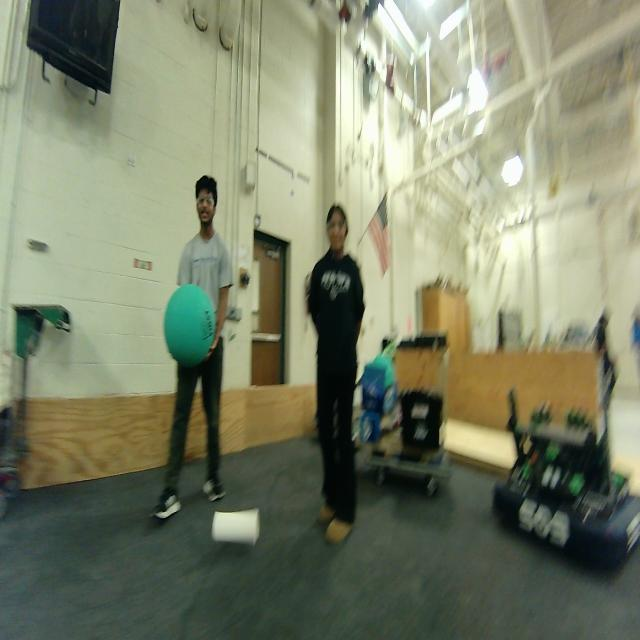algae: (164, 284, 215, 367)
coral: (212, 508, 259, 546)
